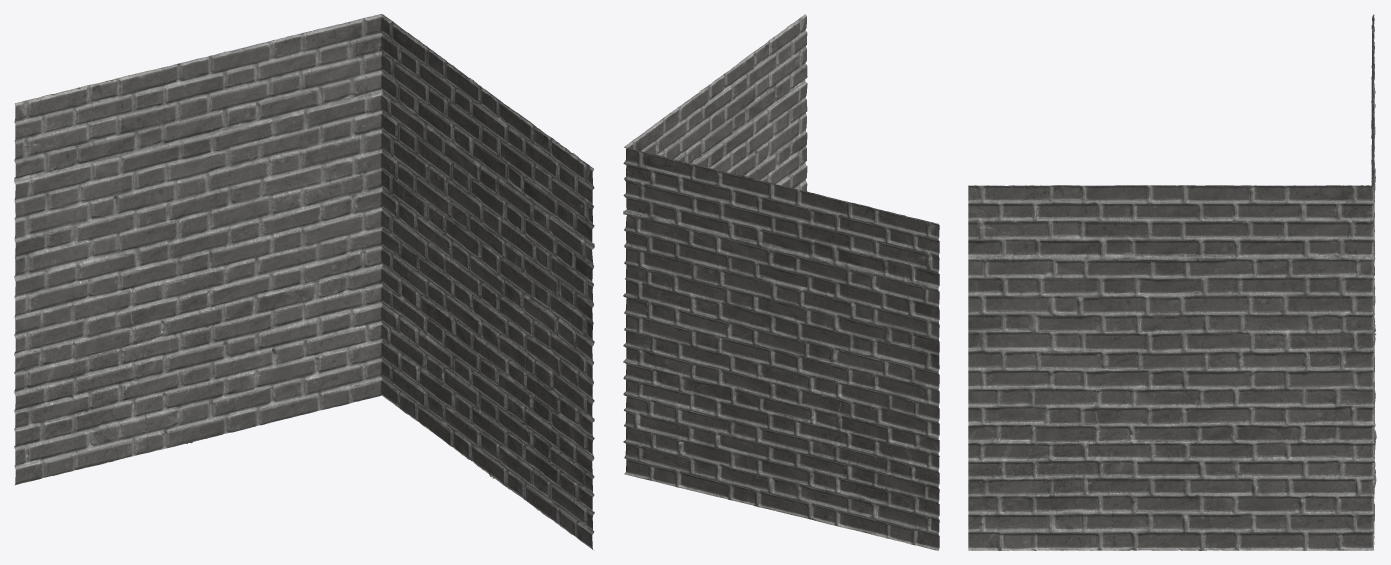
File: SM_Sewer_Wall_Brick_01d.fbx
3 renders of one model, left to right at view 1: azimuth 30°, elevation 25°; view 2: azimuth 150°, elevation 25°; view 3: azimuth 270°, elevation 25°, orthographic. The views are drawn at different scales.
Visible parts, largest first — view 1: SM_Sewer_Wall_Brick_01d_LOD0; view 2: SM_Sewer_Wall_Brick_01d_LOD0; view 3: SM_Sewer_Wall_Brick_01d_LOD0.
Boxes of the visible parts, <box> form: SM_Sewer_Wall_Brick_01d_LOD0: <box>14,14,594,550</box>; SM_Sewer_Wall_Brick_01d_LOD0: <box>623,14,939,550</box>; SM_Sewer_Wall_Brick_01d_LOD0: <box>968,14,1376,550</box>.
Bounding box in the file's own units: 203 × 203 × 200.
